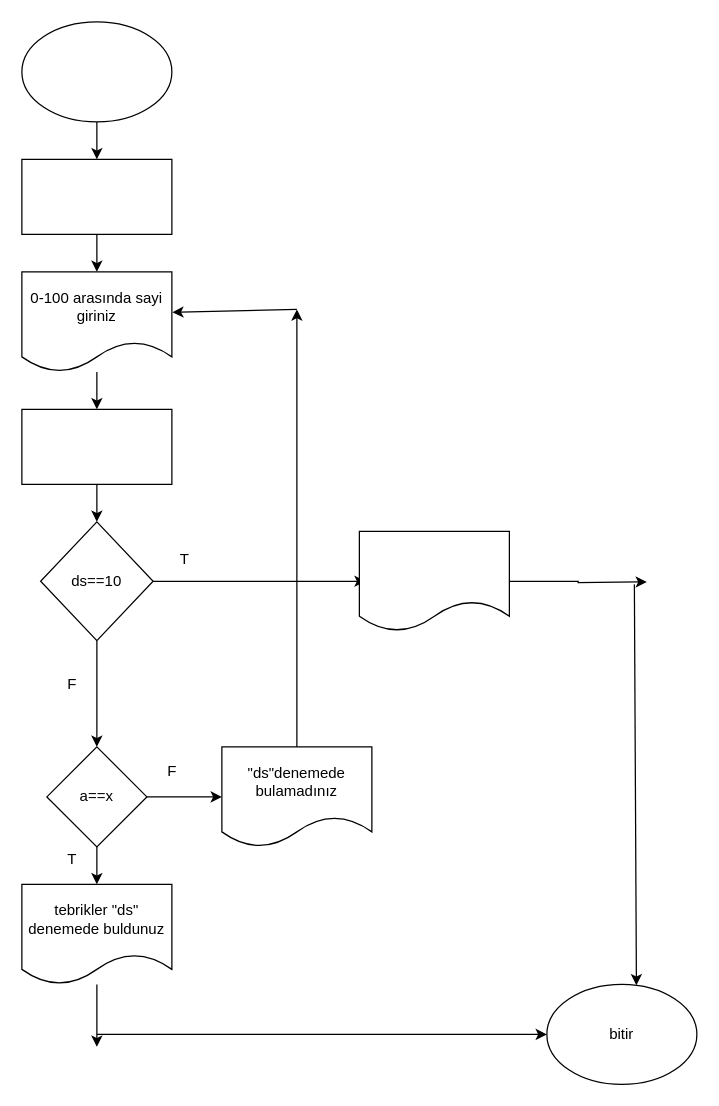
This 719x1106 diagram has some shape labels left out. Each missing label, with the centre of its shape:
"ds++" goes at [96,446].
"x=0 x,ds,a ds=0" goes at [96,196].
"üzgünüm 10. denemede bulamadınız" goes at [433,580].
